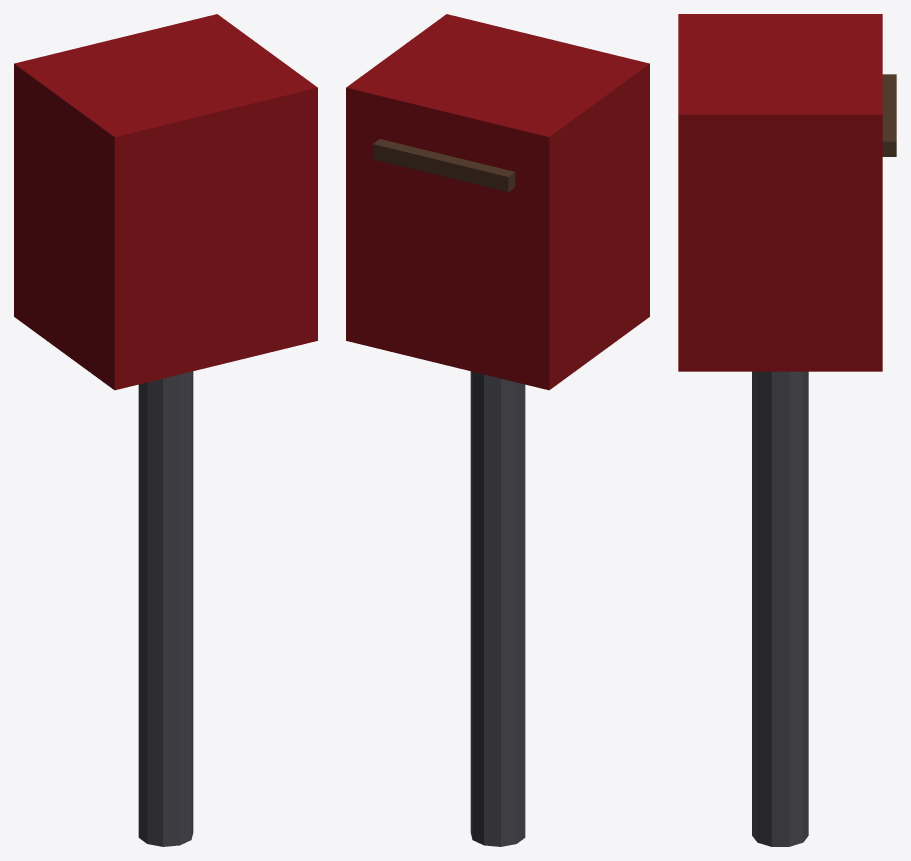
File: SM_K_Mailbox.obj
The picture shows the model from 3 angles, left to right: view 1: azimuth 30°, elevation 25°; view 2: azimuth 150°, elevation 25°; view 3: azimuth 270°, elevation 25°; orthographic projection.
Parts seen in each view (by area): view 1: SM_K_Mailbox; view 2: SM_K_Mailbox; view 3: SM_K_Mailbox.
Part boxes in pixels (x1,y1,x2,y2): SM_K_Mailbox: [14, 14, 317, 846]; SM_K_Mailbox: [346, 14, 649, 846]; SM_K_Mailbox: [678, 14, 896, 846].
Bounding box in the file's own units: 0.42 × 1.5 × 0.385.
